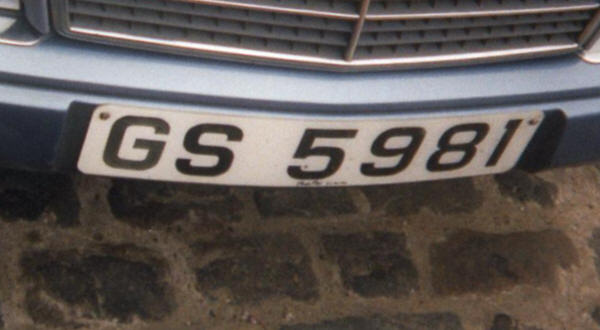license_plate: (76, 105, 548, 188)
